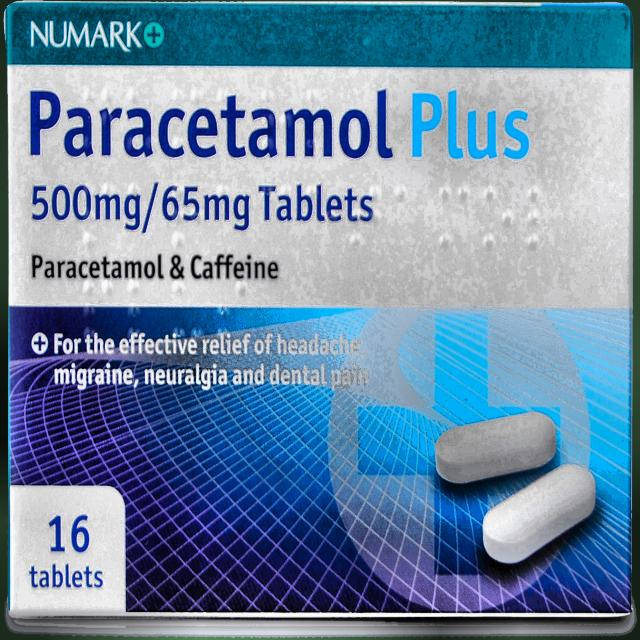Paracetamol: (4, 3, 629, 610)
